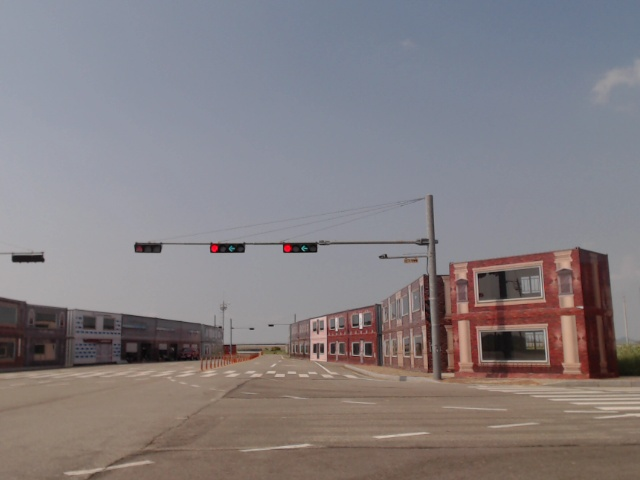left_green_4: (284, 243, 318, 253), (211, 244, 244, 253)
